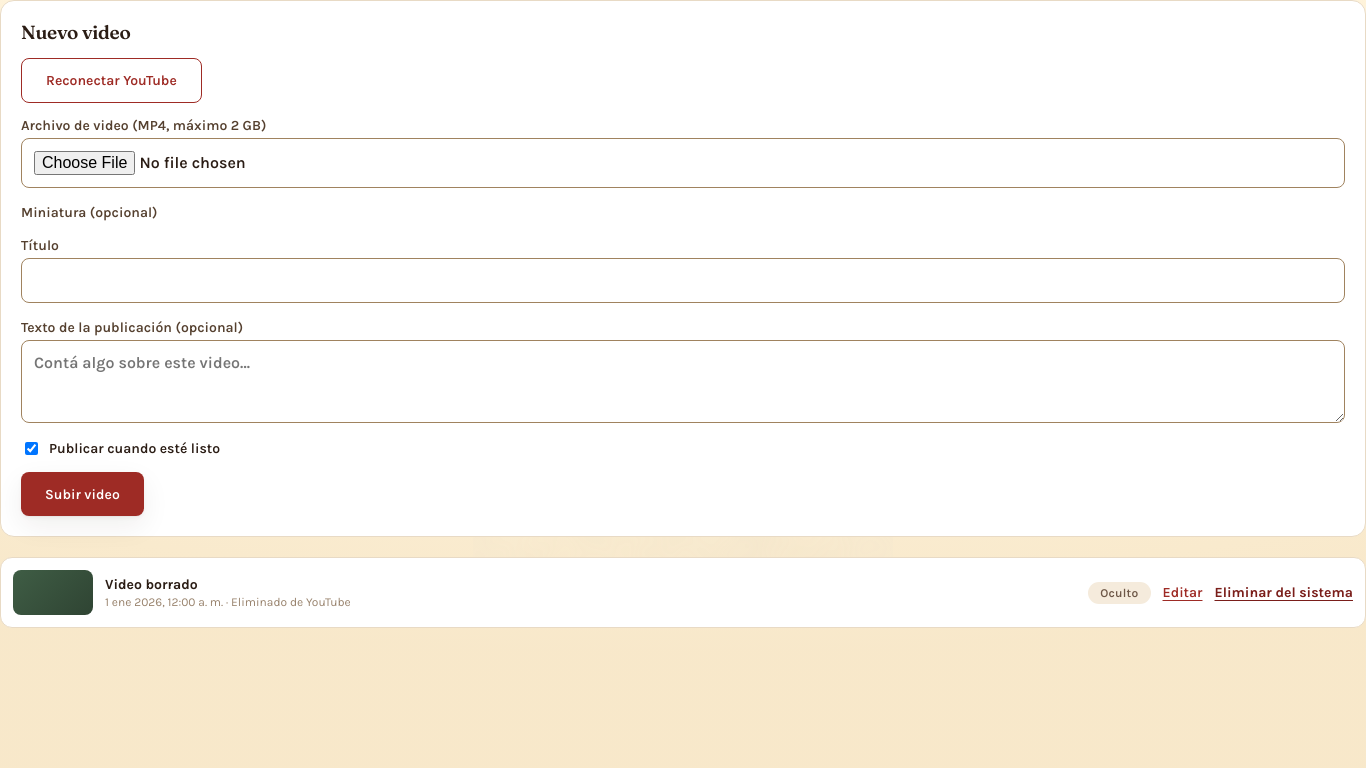
Test: VideoManager eliminacion de videos › elimina el registro local tras confirmar y nunca toca YouTube
Click the button "Eliminar del sistema" at x=1284, y=593, box left=1214, top=584, right=1353, bottom=601
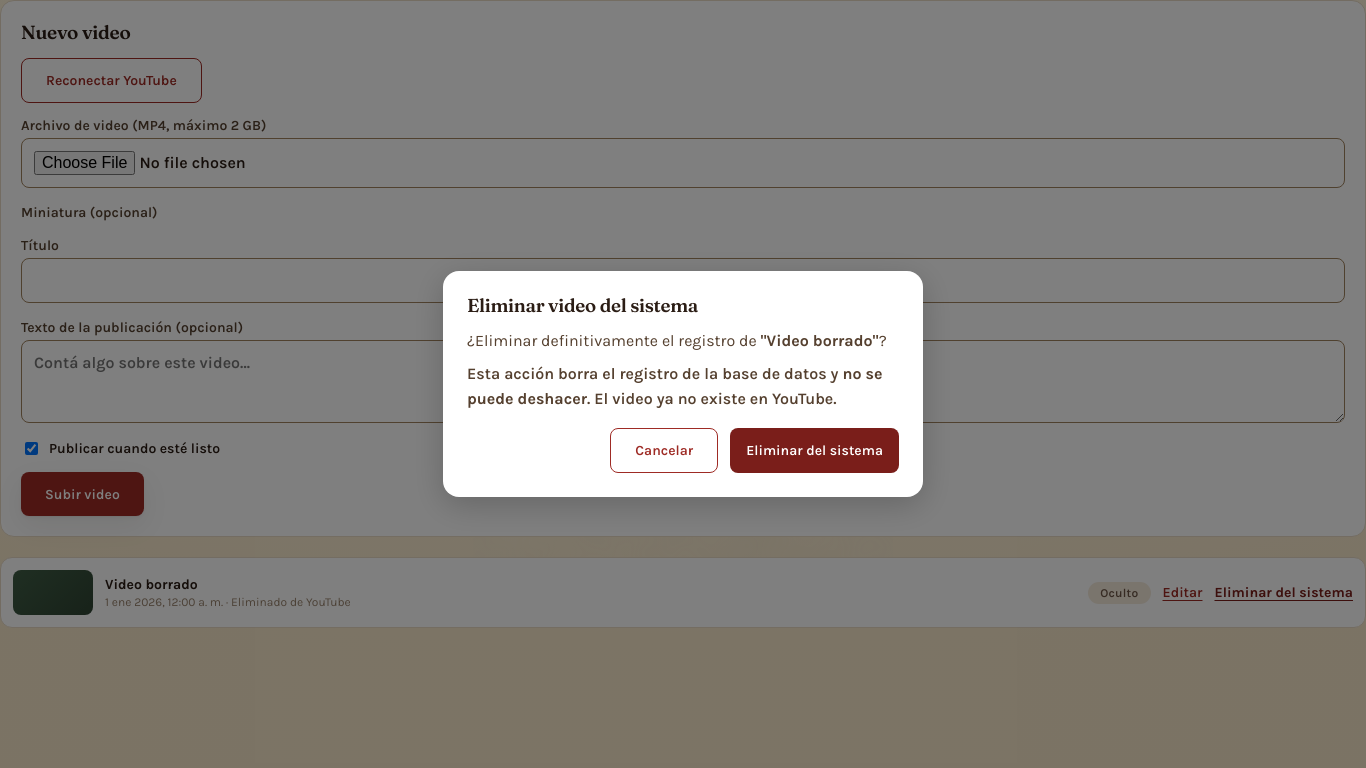
Now the text "no se puede deshacer" is shown, box left=467, top=364, right=882, bottom=408
Click the button "Eliminar del sistema" at x=815, y=450, box left=730, top=428, right=899, bottom=473
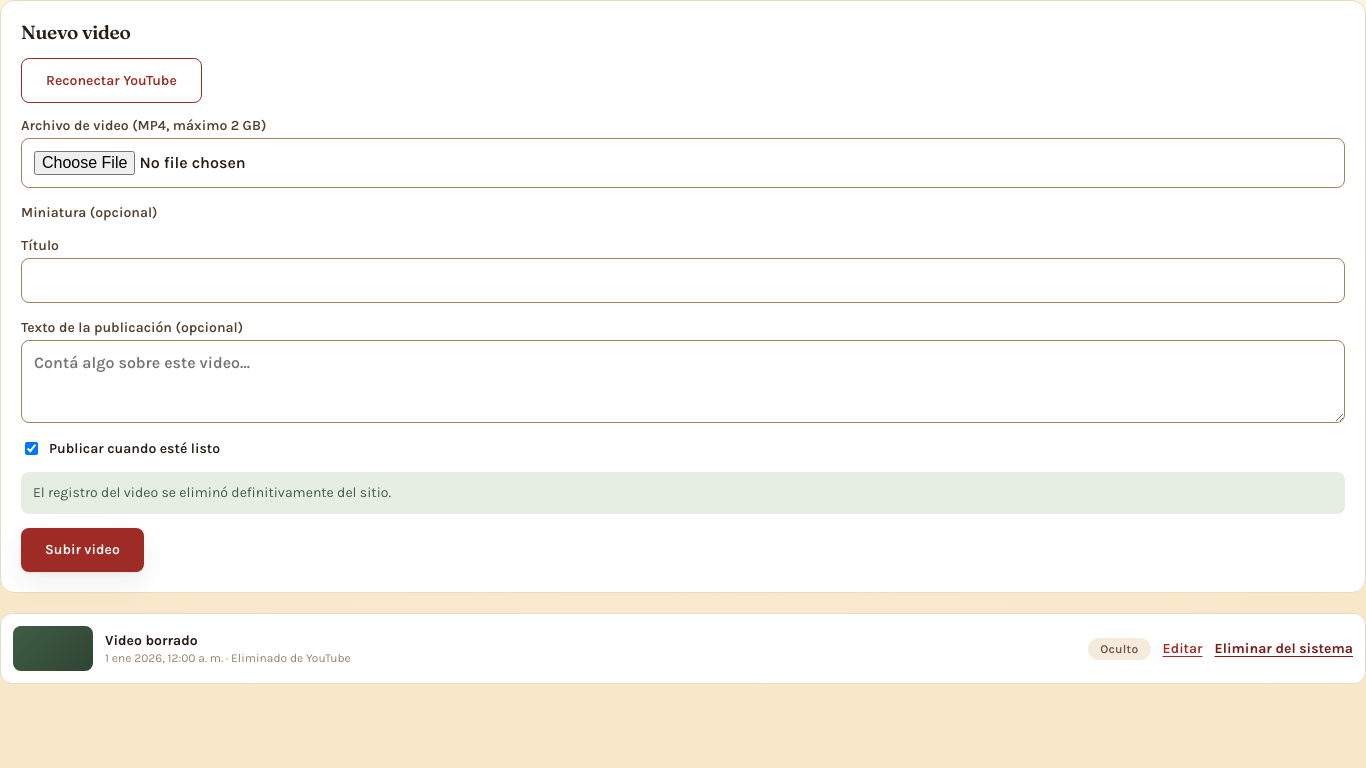
Now the text "El registro del video se eliminó definitivamente del sitio." is shown, box left=21, top=472, right=1345, bottom=514
